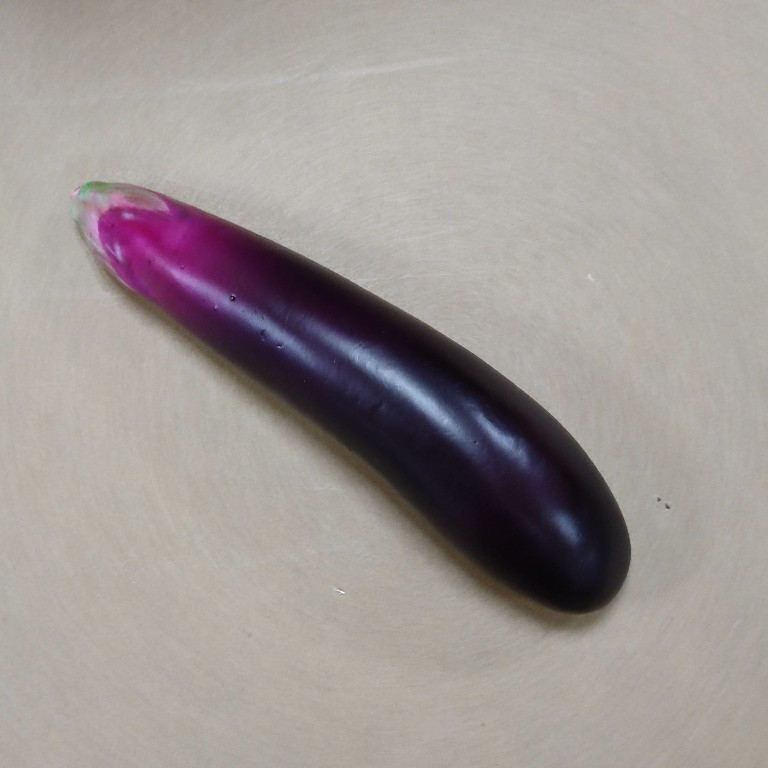fruit_eggplant: (68, 175, 637, 617)
